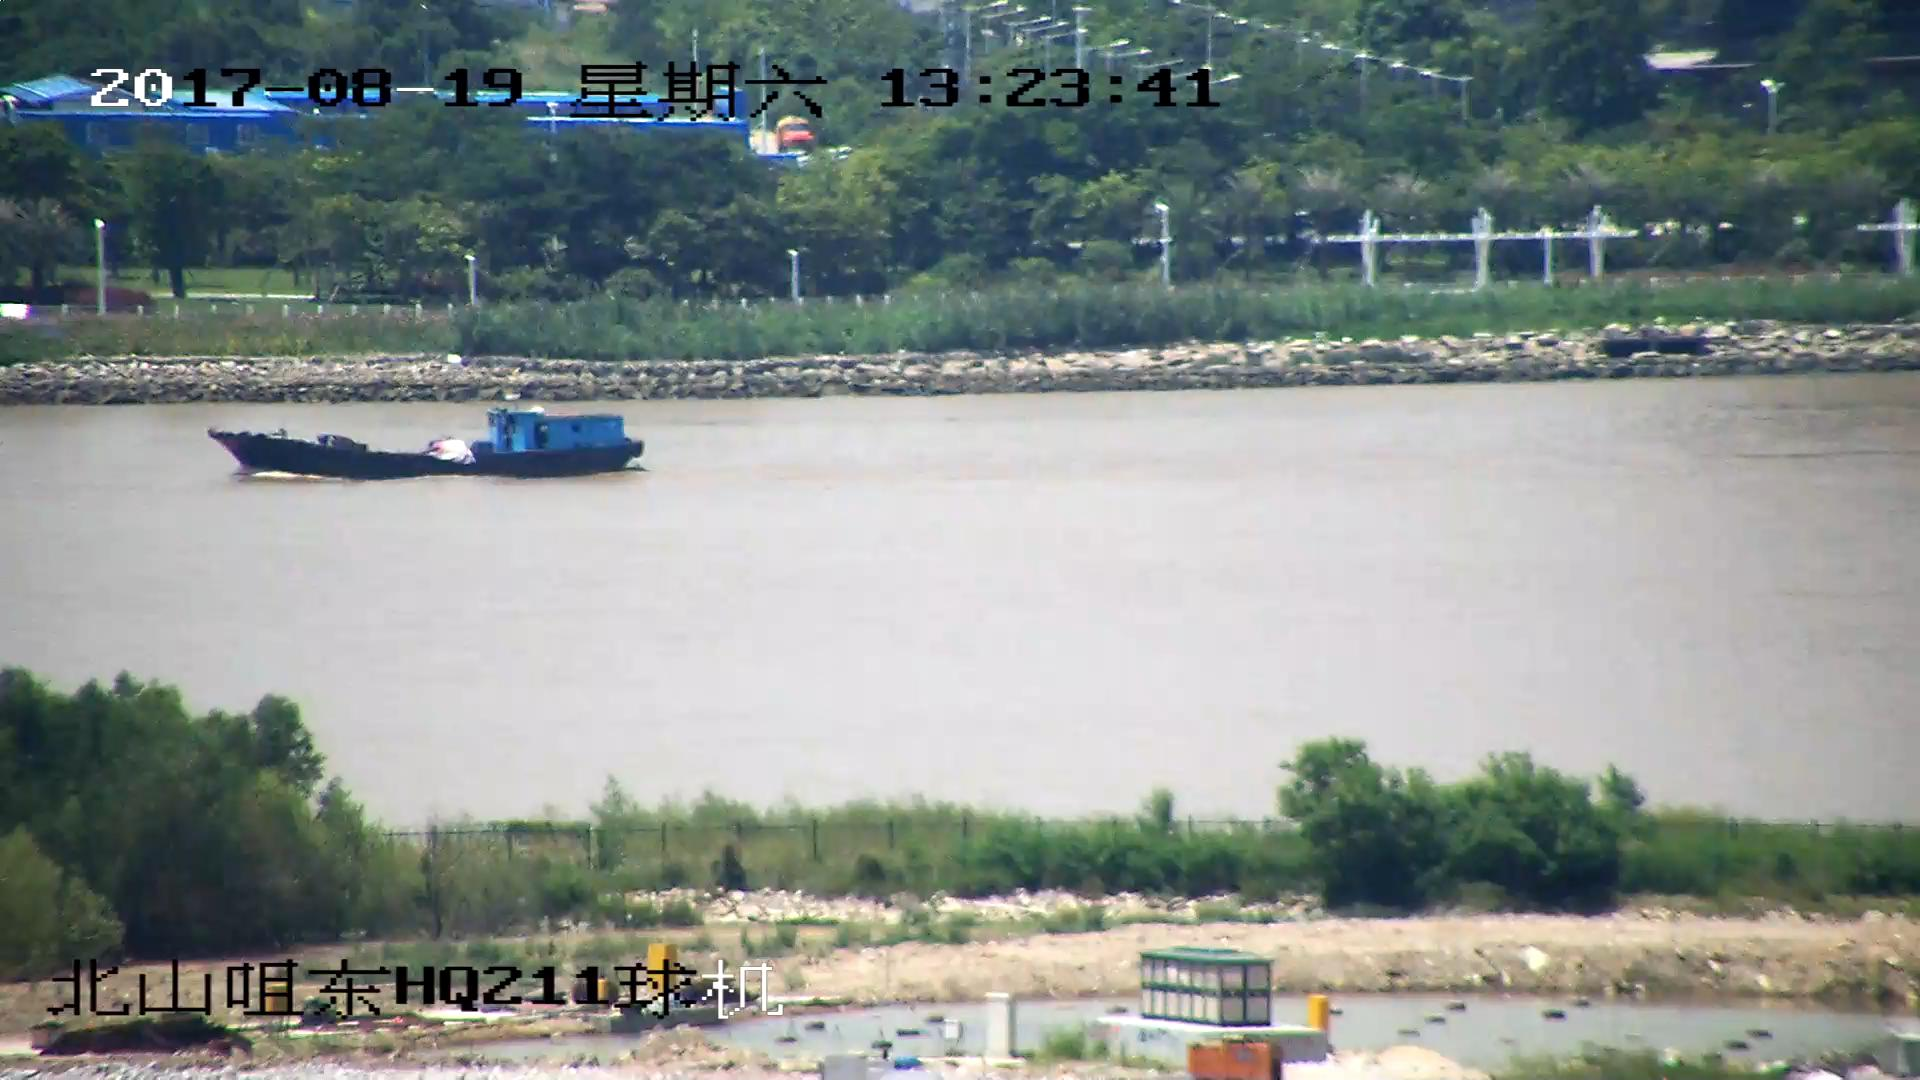fishing boat: (210, 411, 648, 479)
